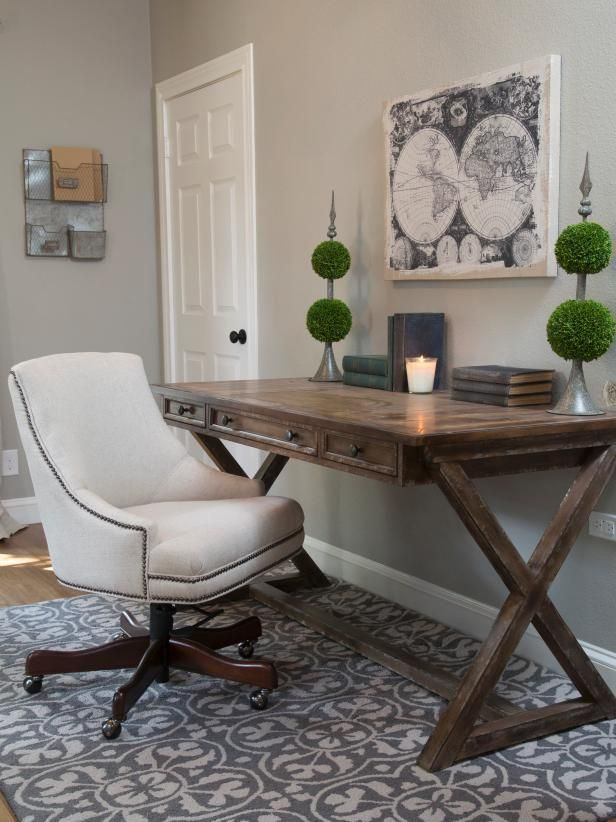chairs: (9, 354, 312, 745)
